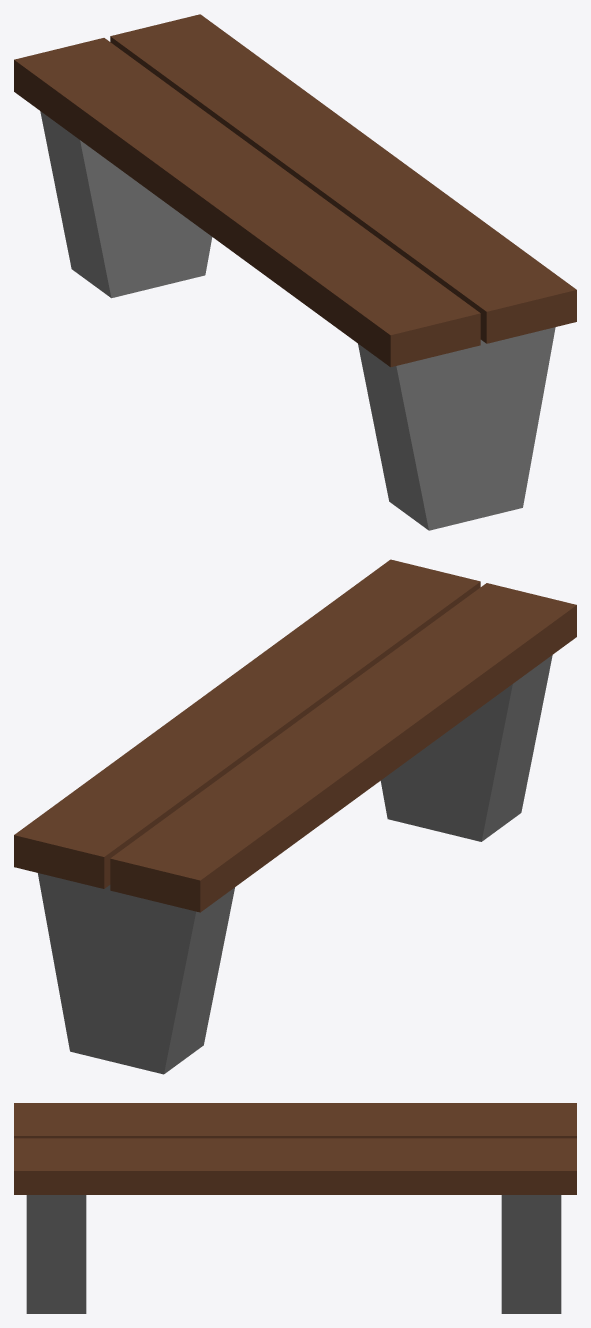
File: bench.fbx
3 renders of one model, top to bottom at view 1: azimuth 30°, elevation 25°; view 2: azimuth 150°, elevation 25°; view 3: azimuth 270°, elevation 25°, orthographic. The views are drawn at different scales.
Visible parts, largest first — view 1: bench; view 2: bench; view 3: bench.
Part boxes in pixels (x1,y1,x2,y2): bench: [14, 14, 576, 530]; bench: [14, 559, 576, 1074]; bench: [14, 1103, 576, 1313].
Bounding box in the file's own units: 58.7 × 64.15 × 205.
1 material, 1 textured.
